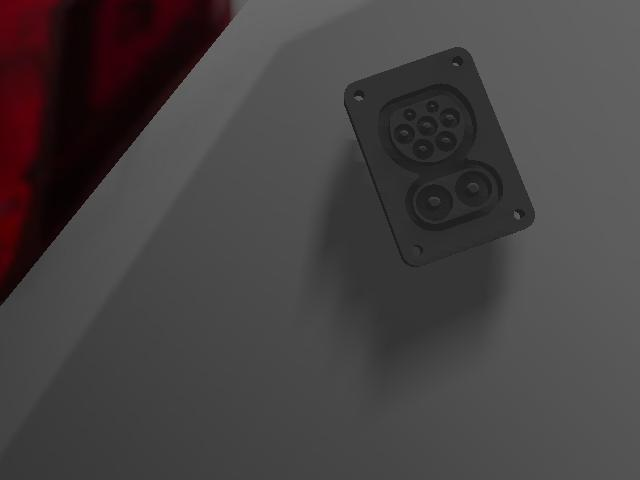EV-socket: (340, 43, 540, 274)
